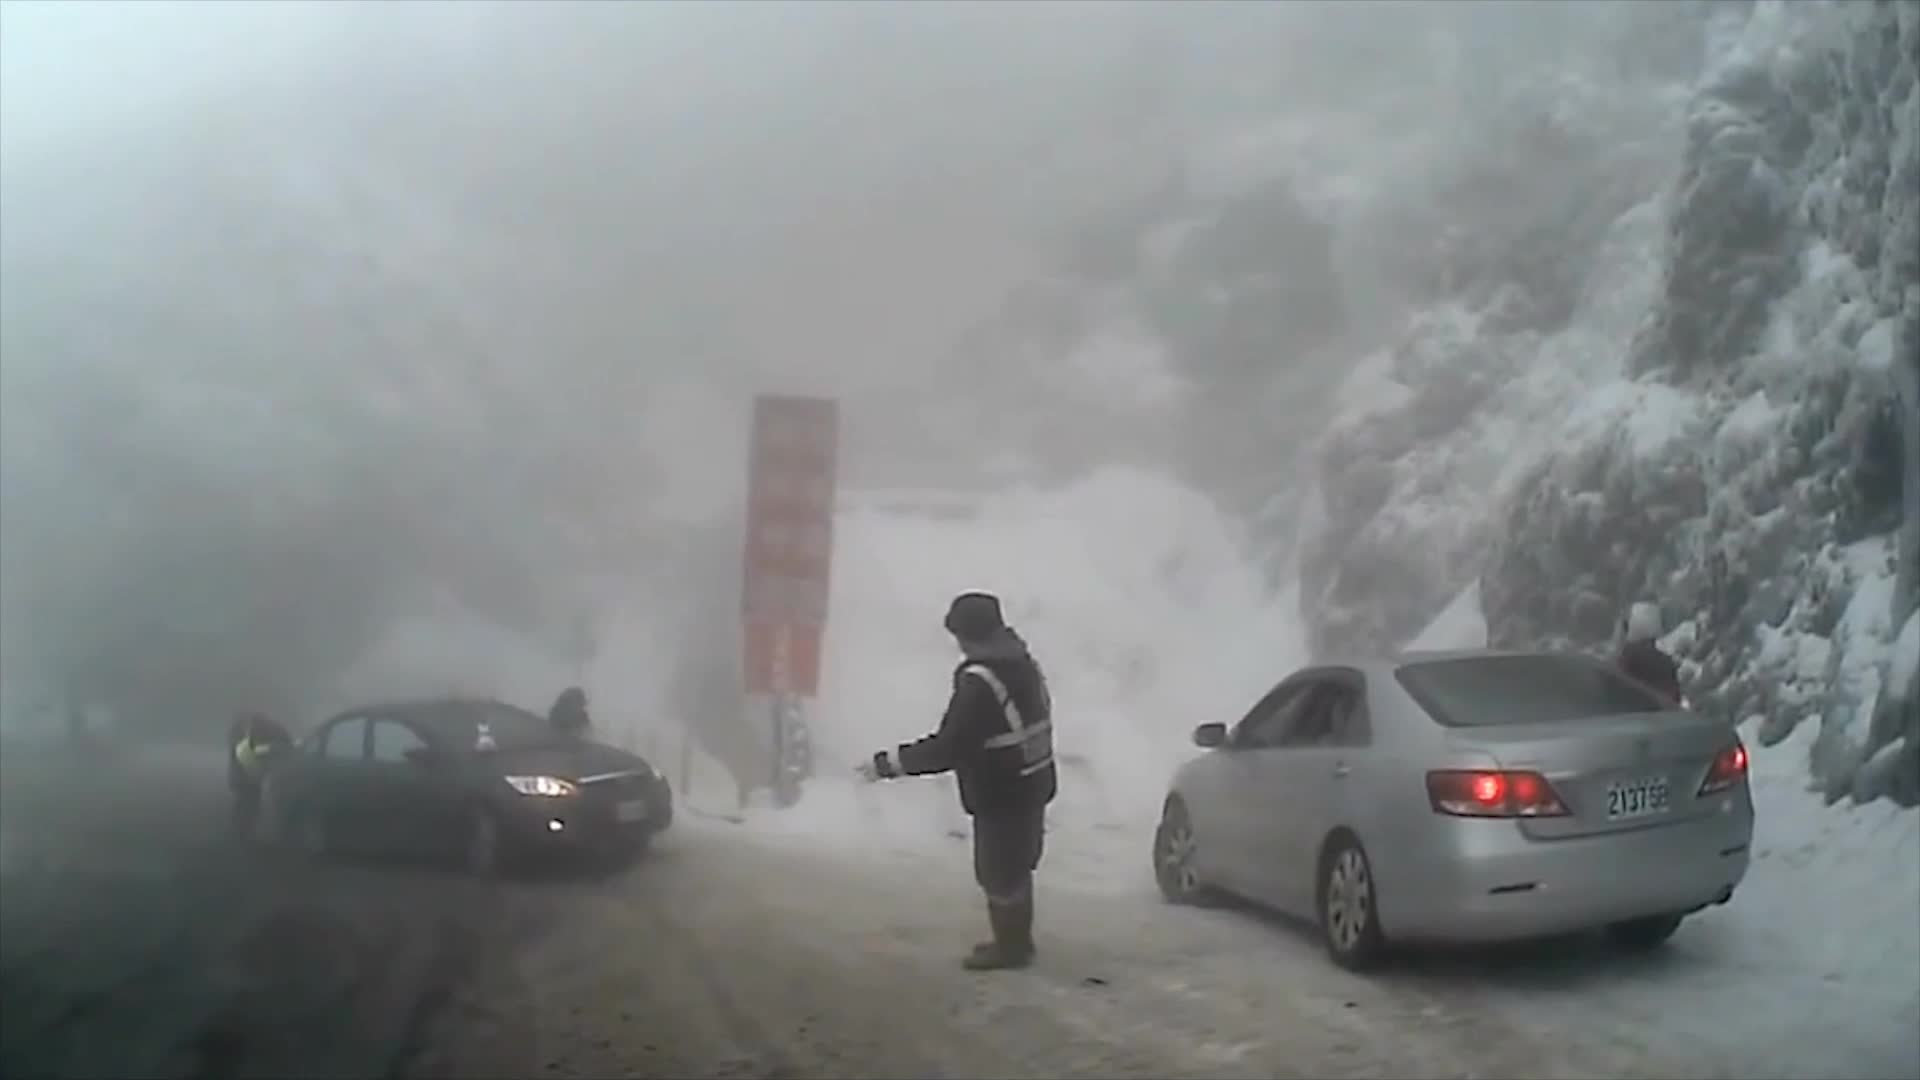pedestrian: (850, 591, 1057, 973), (1609, 601, 1687, 858), (224, 719, 294, 833)
vehicle: (1150, 647, 1754, 971), (260, 696, 673, 882)
